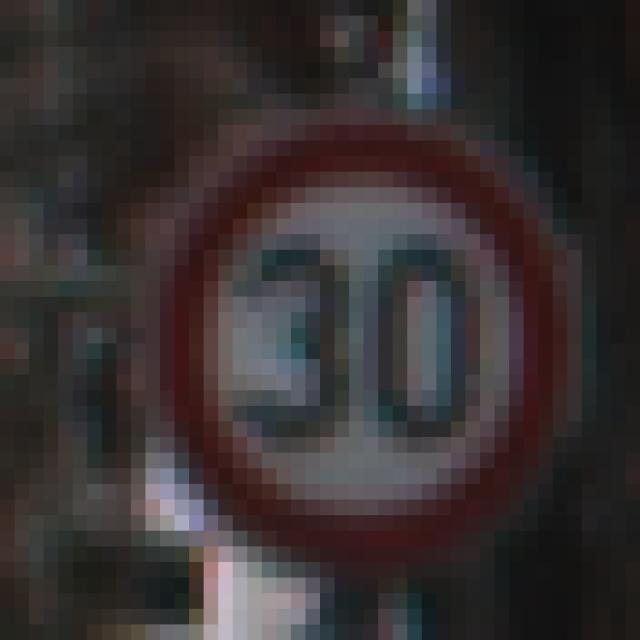Speed Limit -30-: (80, 70, 560, 539)
